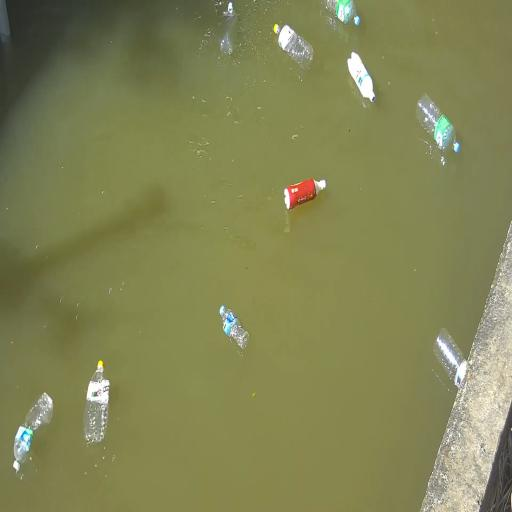plastic: (14, 393, 53, 472), (417, 94, 459, 153), (84, 360, 110, 447), (435, 329, 467, 388), (274, 24, 313, 69), (220, 306, 248, 355), (348, 52, 375, 102), (284, 179, 326, 210), (220, 2, 237, 56)
